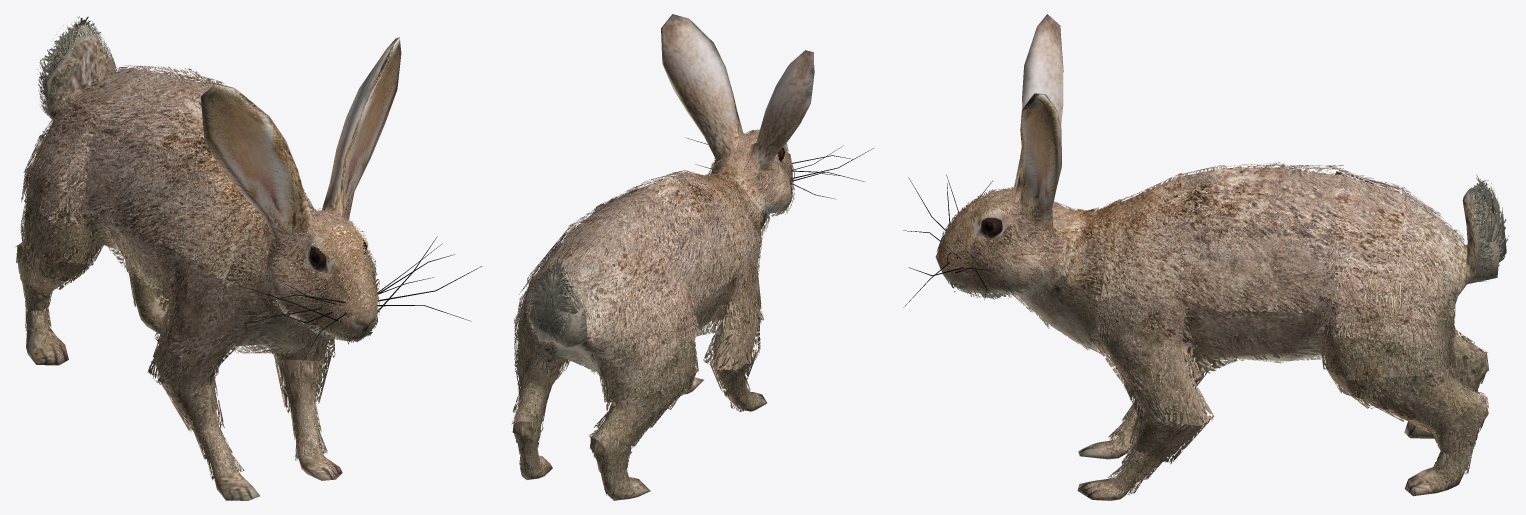
Rendered from rabbit20028.obj.
3 views of the same model, side by side, from view 1: azimuth 30°, elevation 25°; view 2: azimuth 150°, elevation 25°; view 3: azimuth 270°, elevation 25° (orthographic). The views are drawn at different scales.
Parts seen in each view (by area): view 1: Rabbit, Fur; view 2: Rabbit, Fur; view 3: Fur, Rabbit.
Boxes of the visible parts, x1,y1,x2,y2 form: Rabbit: (17, 37, 481, 500); Fur: (15, 16, 379, 480); Rabbit: (514, 14, 873, 500); Fur: (511, 129, 794, 495); Fur: (936, 162, 1508, 495); Rabbit: (903, 14, 1500, 500).
Size of the model in its own units: 7.47 by 14.82 by 19.33.
